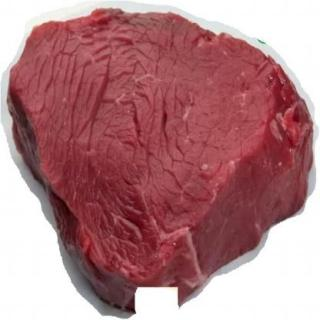Daging Sapi: (12, 8, 313, 315)
